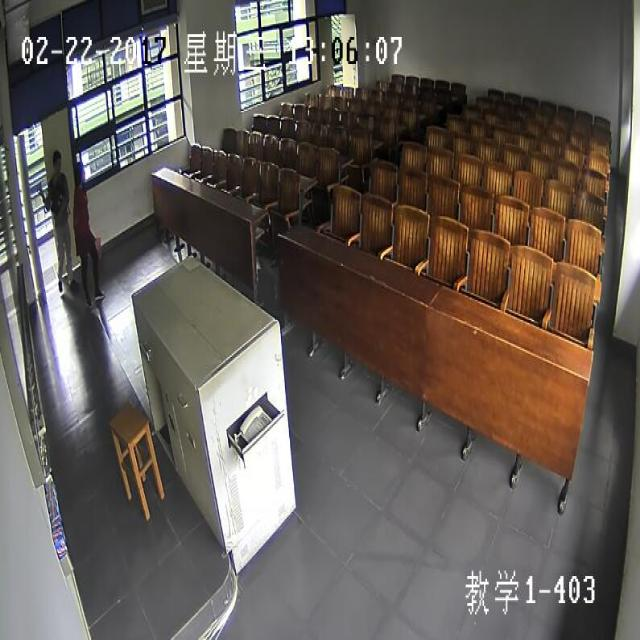person: (72, 161, 84, 186), (50, 149, 61, 171)
